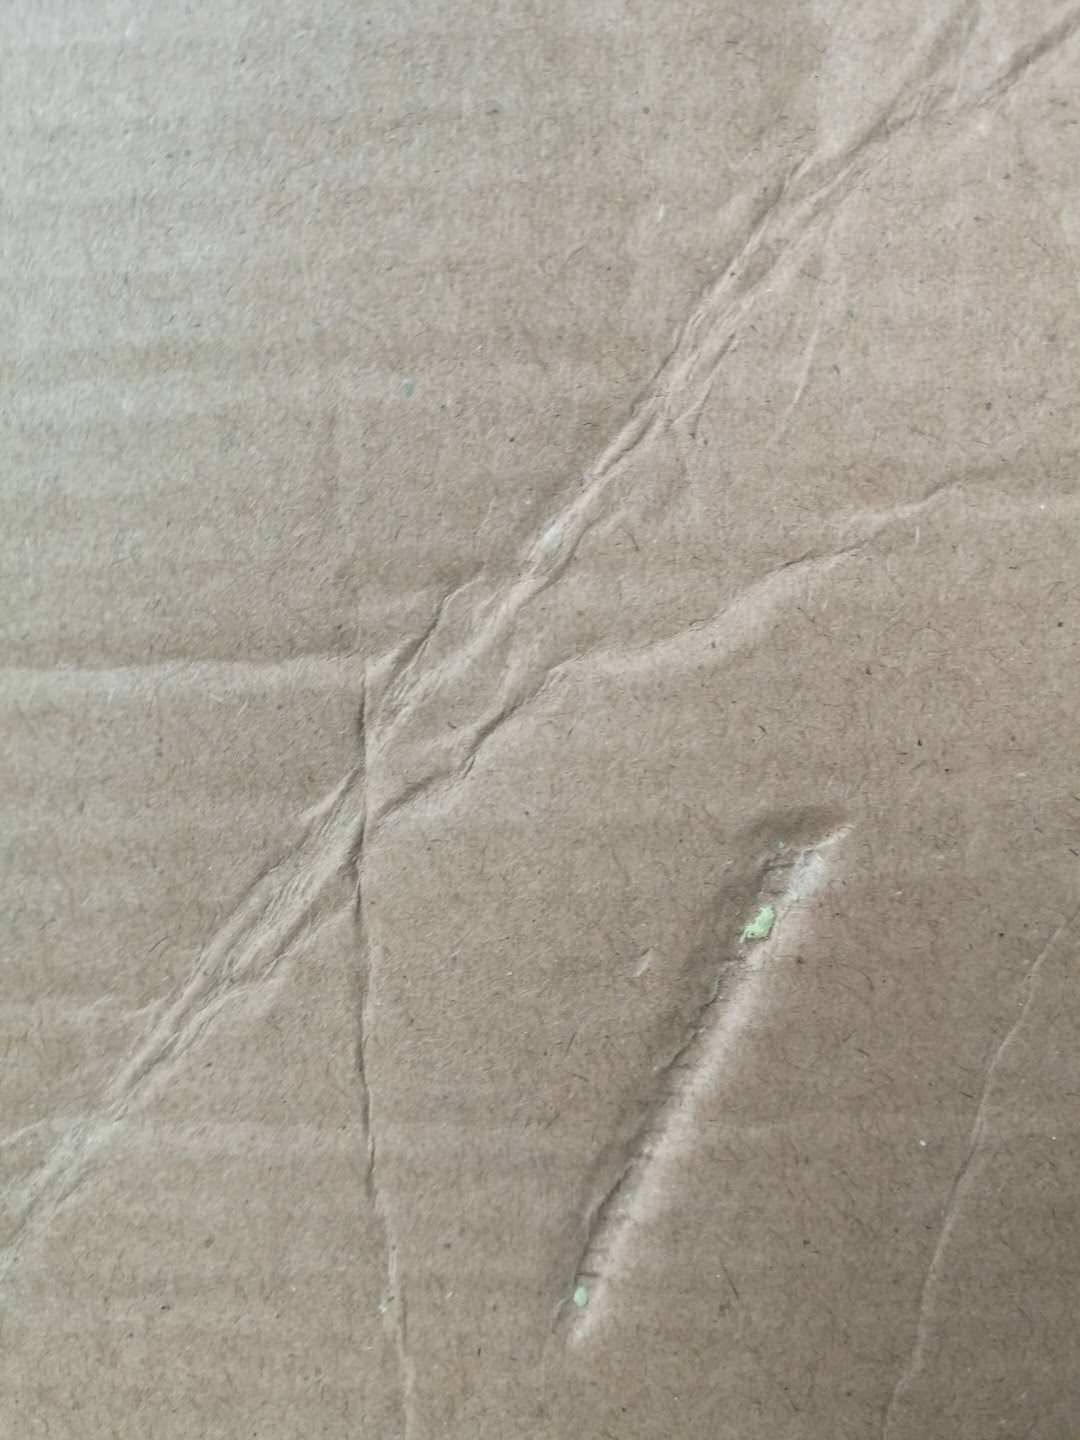defect: (2, 2, 1080, 1257), (505, 759, 883, 1359), (307, 495, 459, 1432), (839, 887, 1080, 1437), (3, 581, 452, 718)
